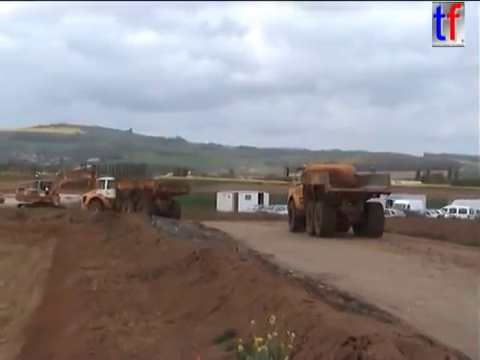excavator: (12, 164, 101, 216)
truck: (282, 160, 398, 240), (79, 174, 193, 222)
